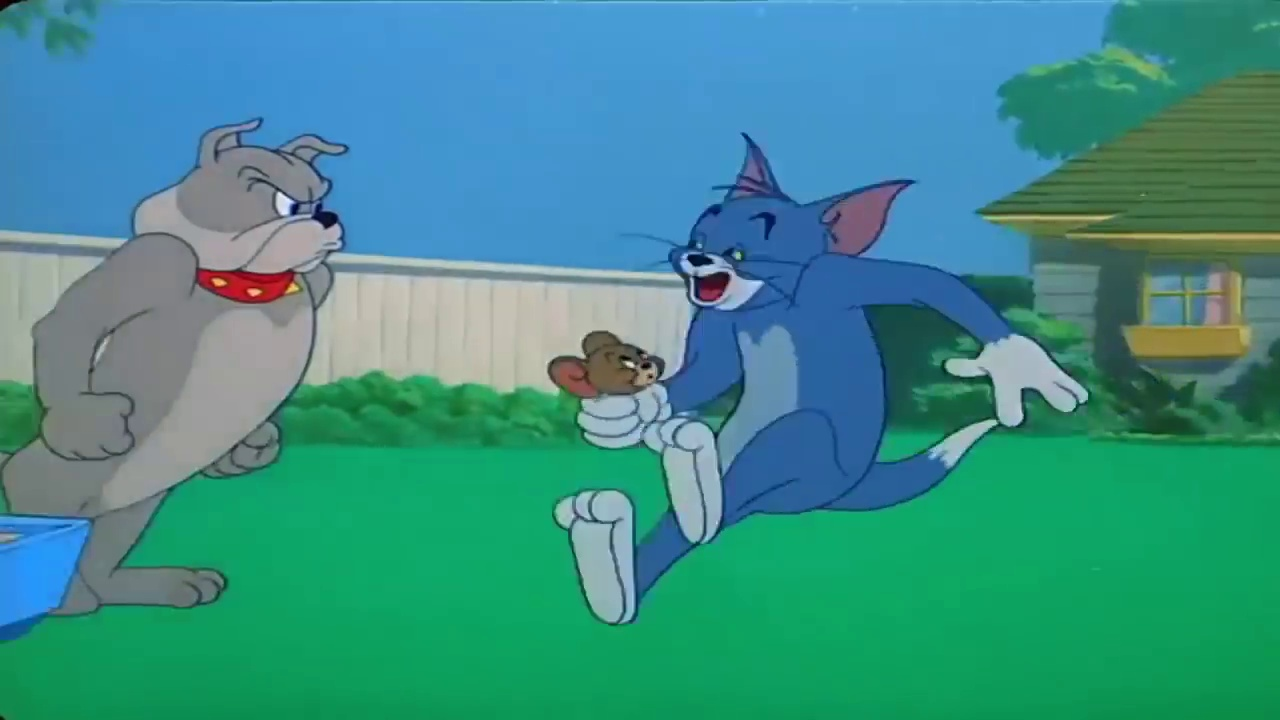spike: (130, 116, 358, 310)
tom: (653, 127, 920, 320)
